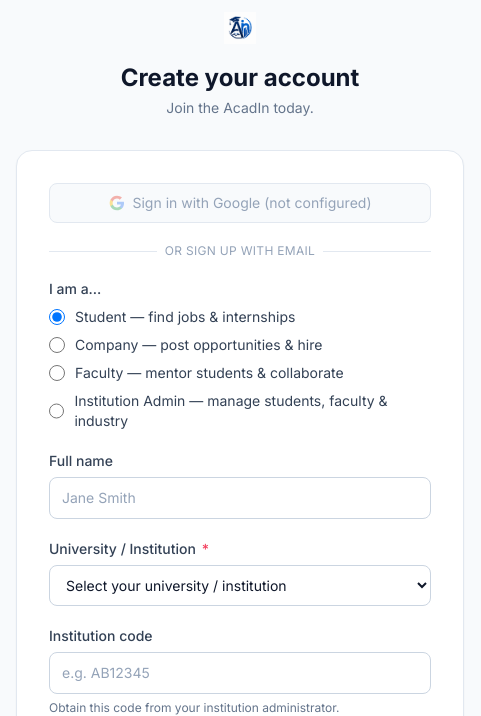
Test: Register page › shows companyName field when COMPANY is selected
Step 1. Click the radio button labelled "Company — post opportunities & hire" → {"x": 57, "y": 345}, box left=49, top=337, right=65, bottom=353
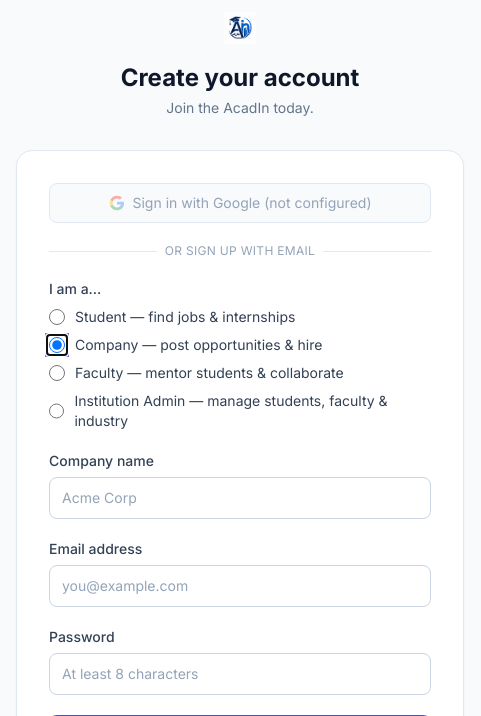
Now the field labelled "Company name" is shown, box left=49, top=477, right=431, bottom=519
Now the label labelled "Full name" is gone
